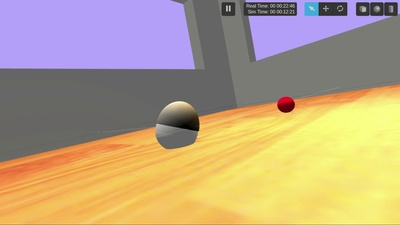mira_robot: (155, 101, 200, 149)
